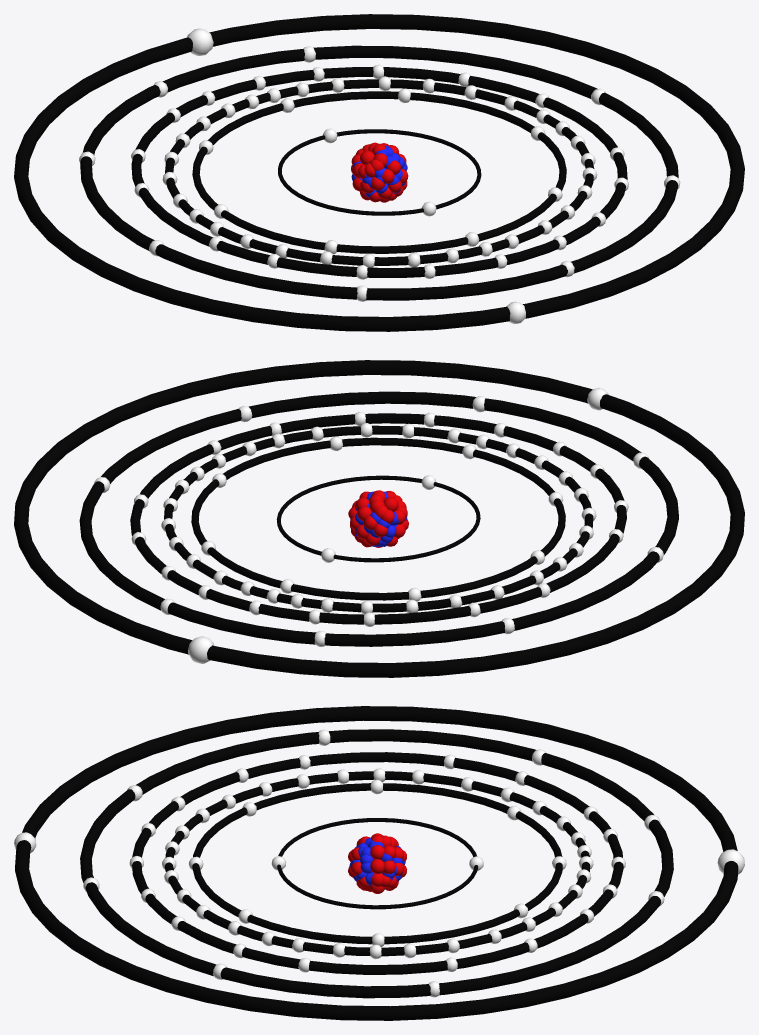
Rendered from 56 Bario.fbx.
3 views of the same model, one above another, from view 1: azimuth 30°, elevation 25°; view 2: azimuth 150°, elevation 25°; view 3: azimuth 270°, elevation 25° (orthographic).
Parts seen in each view (by area): view 1: Orbita.006, Orbita.005, Orbita.004, Orbita.003, Orbita.002, Electron.111, Orbita.001, Electron.093; view 2: Orbita.006, Orbita.005, Orbita.004, Orbita.003, Orbita.002, Electron.111, Orbita.001; view 3: Orbita.006, Orbita.005, Orbita.004, Orbita.003, Orbita.002, Electron.111, Orbita.001.
Part boxes in pixels (<box>): Orbita.006: <box>14,14,744,331</box>; Orbita.005: <box>80,45,678,300</box>; Orbita.004: <box>131,67,627,277</box>; Orbita.003: <box>165,79,594,265</box>; Orbita.002: <box>192,91,566,253</box>; Electron.111: <box>351,142,408,202</box>; Orbita.001: <box>278,129,481,215</box>; Electron.093: <box>187,28,213,55</box>; Orbita.006: <box>14,360,744,677</box>; Orbita.005: <box>79,391,678,646</box>; Orbita.004: <box>130,413,626,624</box>; Orbita.003: <box>164,425,593,612</box>; Orbita.002: <box>191,437,565,600</box>; Electron.111: <box>348,490,408,547</box>; Orbita.001: <box>276,475,480,562</box>; Orbita.006: <box>15,706,738,1020</box>; Orbita.005: <box>80,729,673,998</box>; Orbita.004: <box>132,752,623,974</box>; Orbita.003: <box>164,771,590,956</box>; Orbita.002: <box>192,783,562,944</box>; Electron.111: <box>348,833,406,893</box>; Orbita.001: <box>277,818,478,909</box>.
Bounding box in the file's own units: 33.81 × 33.5 × 2.85.
